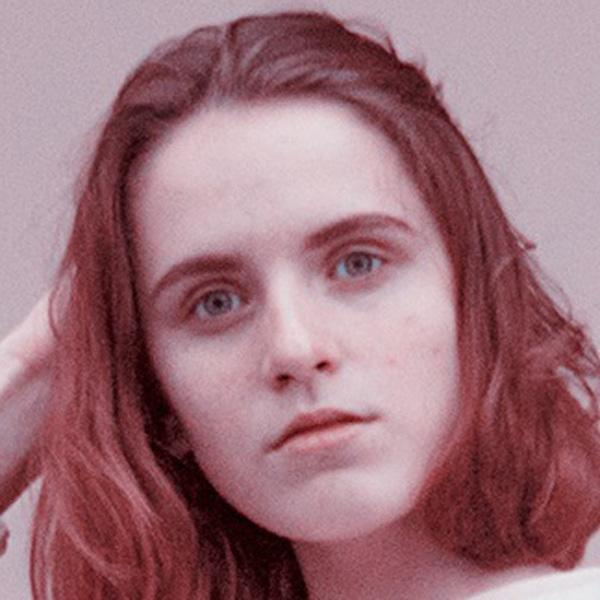Eyes: (177, 272, 257, 336), (315, 235, 398, 294)
